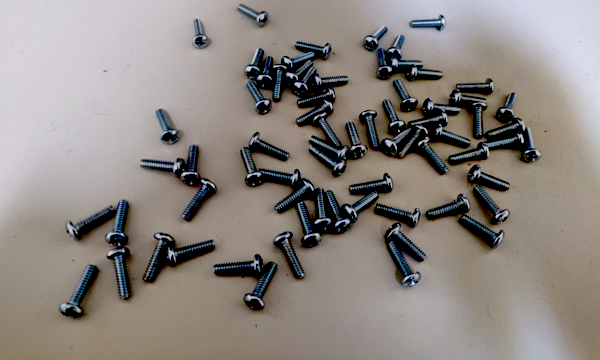shortscrew: (59, 264, 98, 319), (66, 205, 117, 241), (142, 233, 176, 284), (244, 261, 278, 311), (385, 223, 427, 263), (460, 214, 505, 250), (388, 241, 422, 288), (273, 232, 306, 279), (181, 178, 217, 221), (274, 178, 316, 214), (165, 239, 216, 268), (473, 186, 511, 224), (416, 137, 449, 177), (106, 248, 131, 300), (249, 132, 291, 162), (309, 145, 347, 178), (342, 191, 380, 224), (396, 124, 429, 160), (297, 202, 323, 247), (376, 203, 421, 229), (427, 194, 471, 220), (469, 165, 511, 192), (105, 200, 129, 247), (312, 112, 342, 149), (214, 255, 264, 277), (296, 99, 334, 127), (309, 136, 349, 161), (349, 173, 394, 195), (241, 147, 265, 187), (432, 124, 472, 148), (381, 127, 414, 156), (141, 158, 186, 179), (449, 143, 490, 165), (297, 86, 336, 109), (359, 110, 381, 150), (486, 118, 526, 140), (247, 80, 272, 115), (156, 109, 180, 145), (259, 169, 302, 189), (383, 99, 406, 135), (393, 79, 418, 112), (346, 122, 368, 159), (284, 60, 313, 88), (180, 145, 200, 185), (292, 66, 317, 97), (237, 4, 270, 27), (295, 41, 332, 61), (423, 98, 461, 117), (522, 127, 542, 163), (496, 92, 518, 123), (281, 52, 315, 72), (363, 26, 389, 52), (409, 110, 448, 127), (456, 78, 495, 95), (489, 130, 523, 149), (312, 74, 349, 91), (450, 90, 487, 107), (470, 102, 487, 139), (245, 48, 264, 81), (272, 64, 288, 103), (256, 56, 274, 89), (407, 65, 444, 81), (410, 15, 447, 31), (389, 55, 423, 71), (376, 49, 393, 80), (385, 35, 405, 61), (192, 19, 209, 49)
